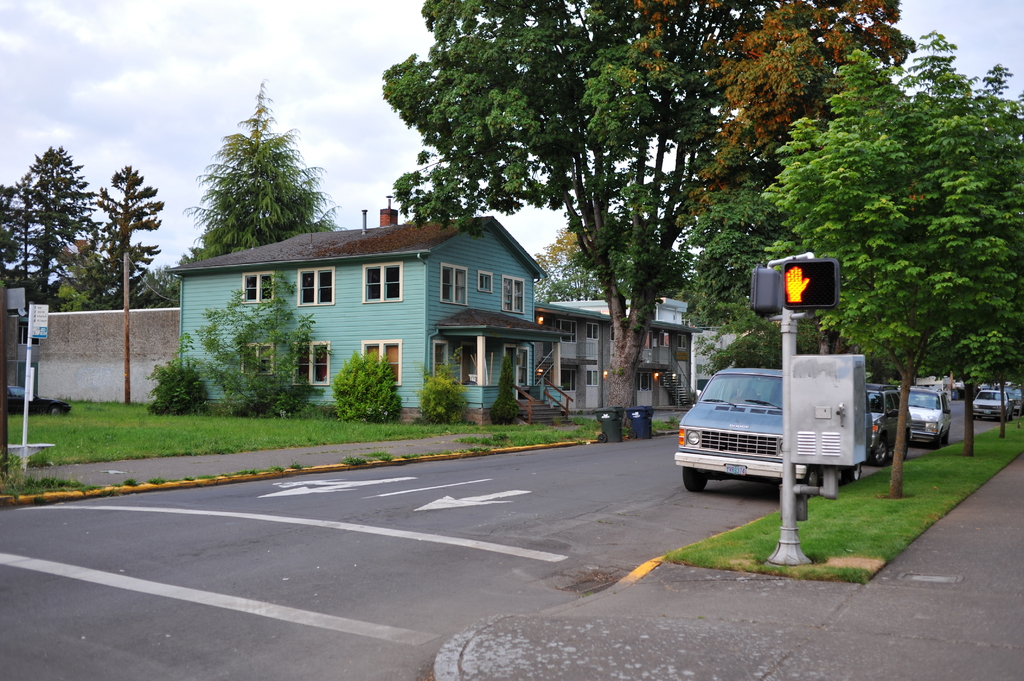car: (655, 345, 823, 505), (845, 371, 917, 465), (896, 372, 966, 447), (965, 378, 1014, 434)
